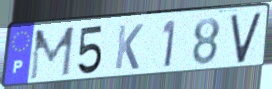1: (161, 18, 177, 70)
5: (76, 24, 104, 76)
8: (189, 14, 223, 68)
K: (113, 23, 145, 72)
M: (28, 25, 77, 83)
V: (229, 10, 264, 65)
